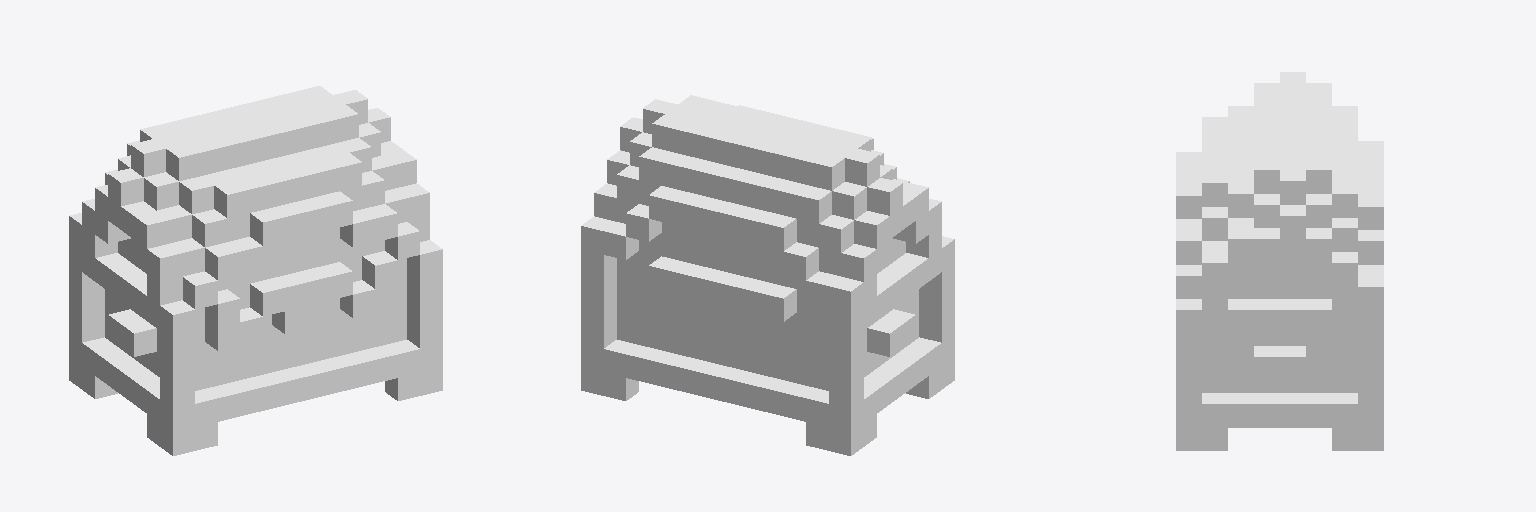
The model's file is prop_chest_shining_green.obj.
The picture shows the model from 3 angles: view 1: azimuth 30°, elevation 25°; view 2: azimuth 150°, elevation 25°; view 3: azimuth 270°, elevation 25°; orthographic projection.
Visible parts, largest first — view 1: object 1; view 2: object 1; view 3: object 1.
Boxes of the visible parts, <box> form: object 1: <box>69,86,442,455</box>; object 1: <box>581,95,954,455</box>; object 1: <box>1176,72,1383,450</box>.
Bounding box in the file's own units: 1.2 × 1.1 × 0.8.